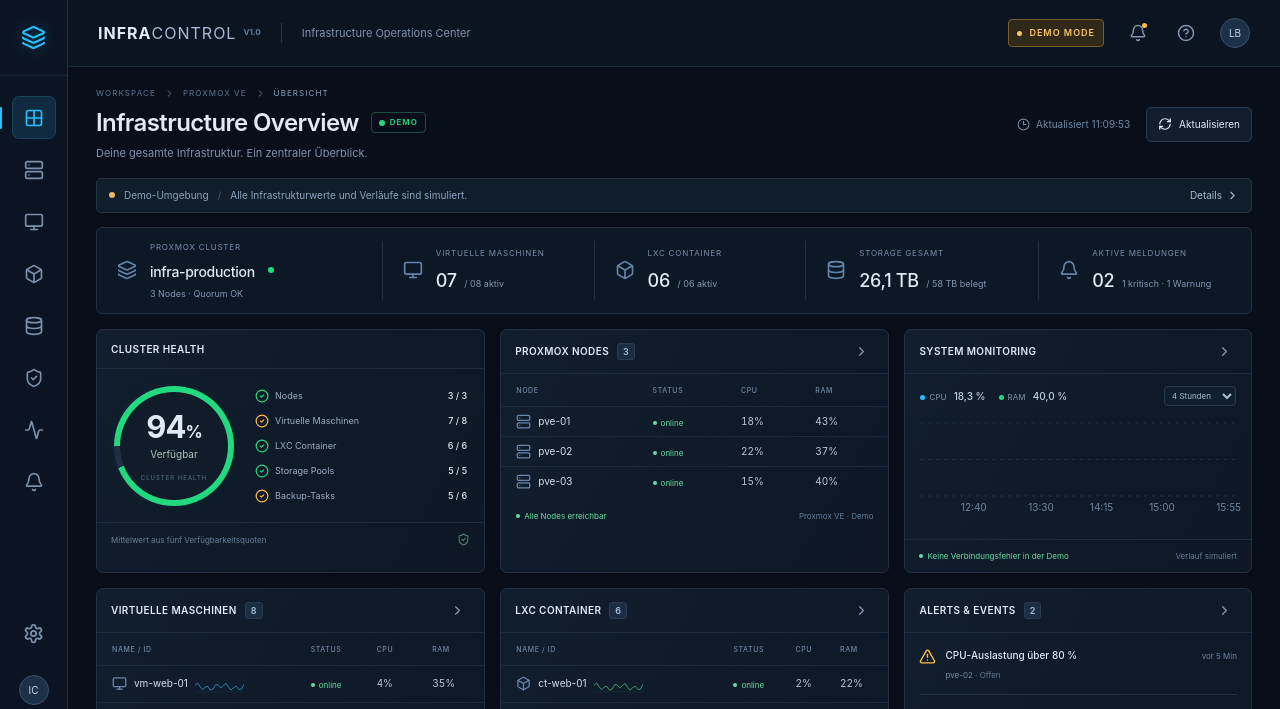
Test case: InfraControl demo › renders dashboard without making backend requests and opens resource details
Expected: the heading "Infrastructure Overview DEMO" is shown, [96, 107, 426, 138]
Expected: the text "DEMO MODE" is shown, [1008, 19, 1104, 47]
Click the button "vm-web-01" at (178, 684), box [112, 673, 244, 695]
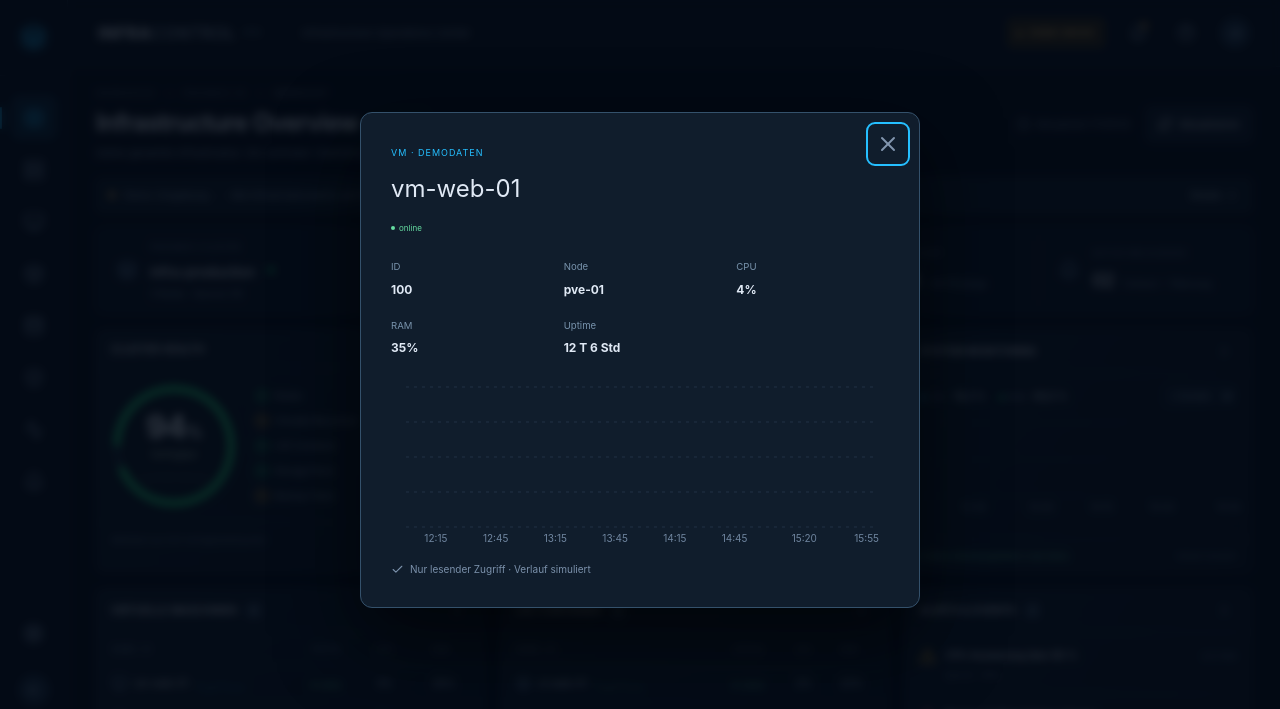
Result: the dialog is shown at [360, 112, 920, 608]
Click the button named "Details schließen" at (888, 144), box [871, 127, 905, 161]
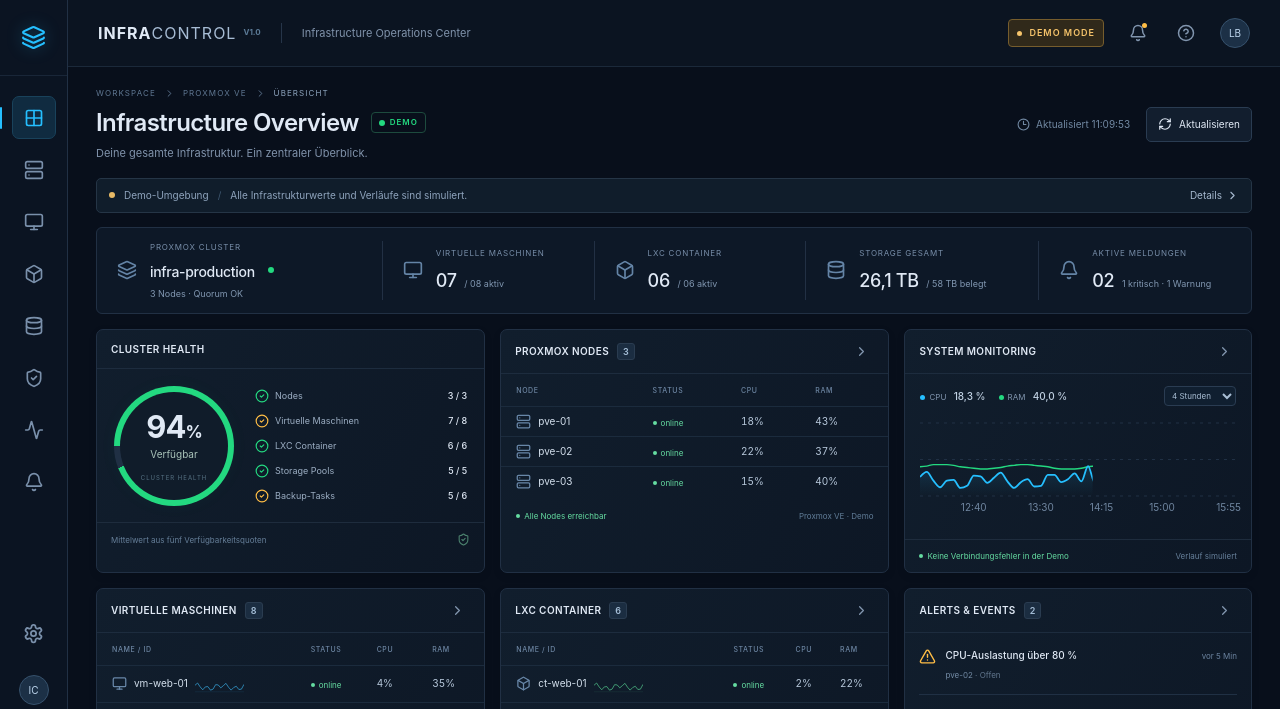
Result: the dialog is gone
